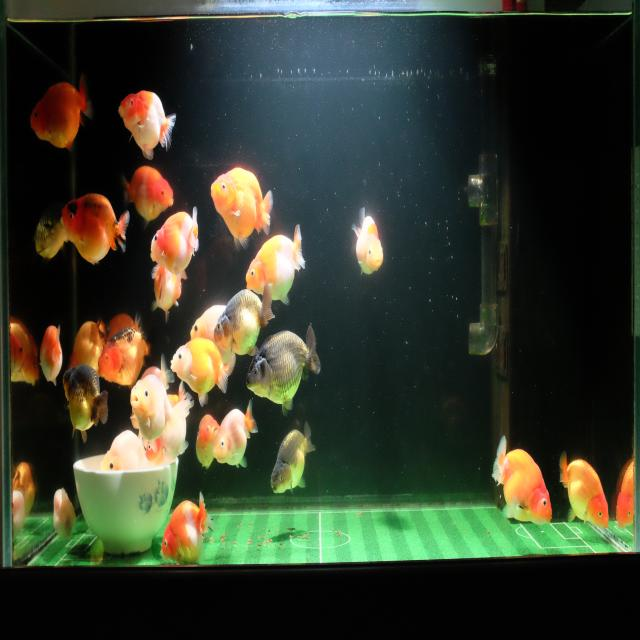Goldfish: (244, 324, 322, 418), (490, 431, 552, 528), (210, 166, 275, 254), (59, 189, 130, 267), (244, 223, 307, 308), (28, 74, 92, 152), (213, 282, 275, 359), (142, 382, 194, 471), (159, 488, 215, 568), (117, 88, 177, 161), (558, 450, 610, 534), (170, 337, 231, 408), (98, 315, 154, 392), (61, 363, 110, 446), (148, 204, 200, 282), (121, 165, 175, 230), (269, 422, 316, 496), (212, 399, 258, 470), (130, 373, 174, 442), (67, 309, 108, 377), (190, 303, 232, 364), (350, 204, 384, 279), (10, 317, 41, 393), (98, 429, 145, 476), (32, 202, 66, 262), (38, 319, 64, 391), (50, 482, 76, 548), (8, 460, 37, 519), (195, 414, 220, 472), (616, 458, 634, 529), (5, 324, 26, 379), (12, 485, 28, 542)
